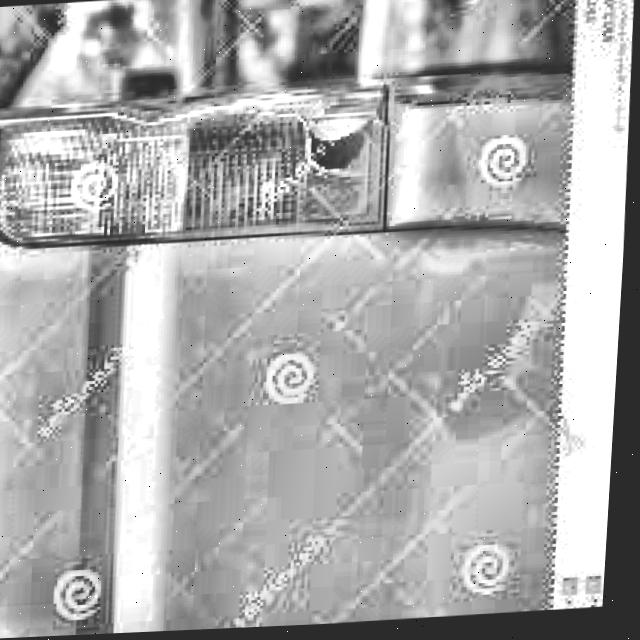tail_lamp: (0, 86, 379, 242)
